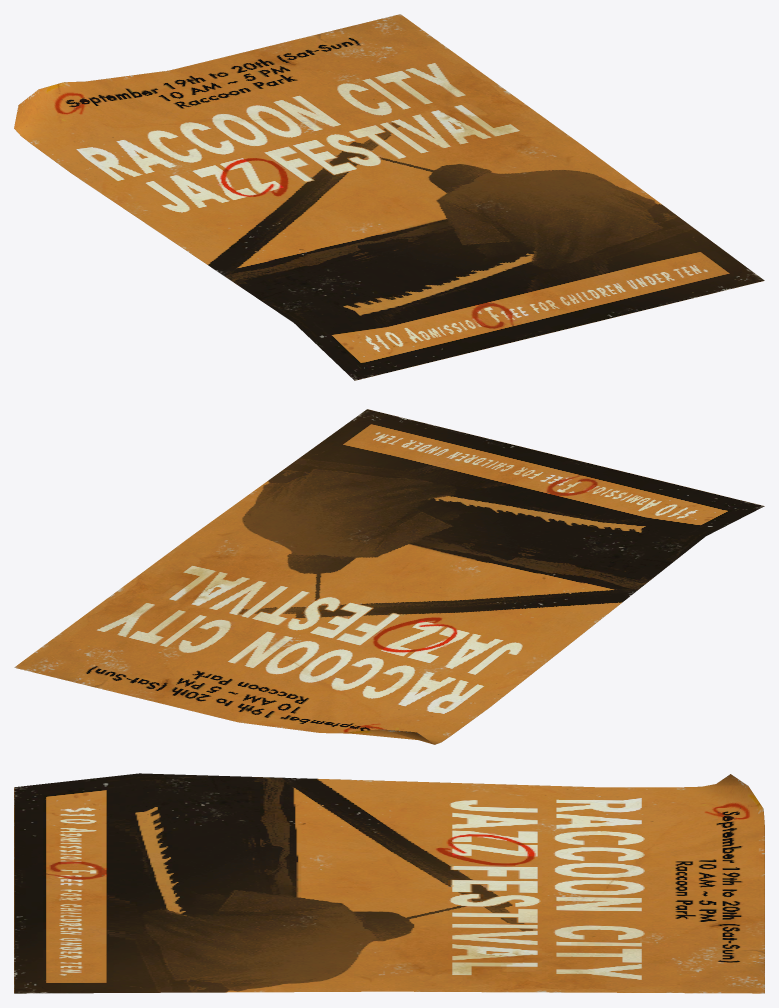
Rendered from sm74_013_sewerhintposter01a.fbx.
3 renders of one model, top to bottom at view 1: azimuth 30°, elevation 25°; view 2: azimuth 150°, elevation 25°; view 3: azimuth 270°, elevation 25°, orthographic. The views are drawn at different scales.
Visible parts, largest first — view 1: LOD_1_Group_0_Sub_1__sm74_013_SewerHintPoster01A_A_Mat__Env_; view 2: LOD_1_Group_0_Sub_1__sm74_013_SewerHintPoster01A_A_Mat__Env_; view 3: LOD_1_Group_0_Sub_1__sm74_013_SewerHintPoster01A_A_Mat__Env_.
Part boxes in pixels (<box>): LOD_1_Group_0_Sub_1__sm74_013_SewerHintPoster01A_A_Mat__Env_: <box>14,14,764,380</box>; LOD_1_Group_0_Sub_1__sm74_013_SewerHintPoster01A_A_Mat__Env_: <box>14,409,764,744</box>; LOD_1_Group_0_Sub_1__sm74_013_SewerHintPoster01A_A_Mat__Env_: <box>14,773,764,993</box>.
Bounding box in the file's own units: 0.3277 × 0.0159 × 0.504.
